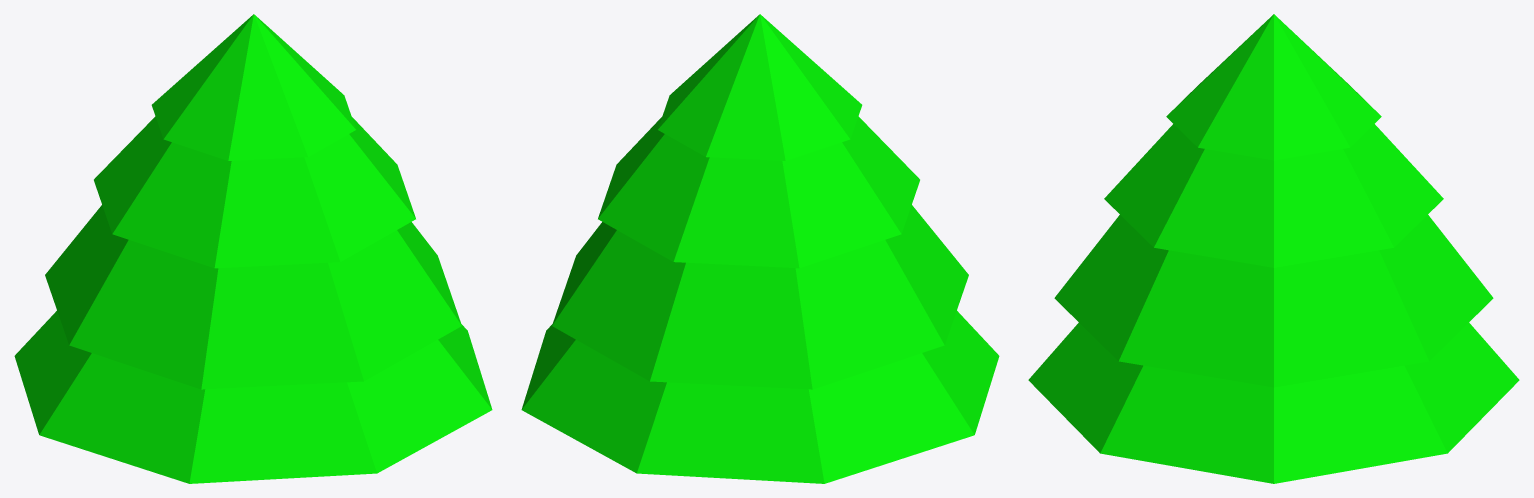
Rendered from pinheiro.fbx.
3 views of the same model, side by side, from view 1: azimuth 30°, elevation 25°; view 2: azimuth 150°, elevation 25°; view 3: azimuth 270°, elevation 25° (orthographic).
Visible parts, largest first — view 1: pinheiro; view 2: pinheiro; view 3: pinheiro.
Boxes of the visible parts, left/top/right/bottom form: pinheiro: left=14, top=14, right=492, bottom=483; pinheiro: left=521, top=14, right=999, bottom=483; pinheiro: left=1028, top=14, right=1519, bottom=483.
Bounding box in the file's own units: 518 × 512 × 518.
